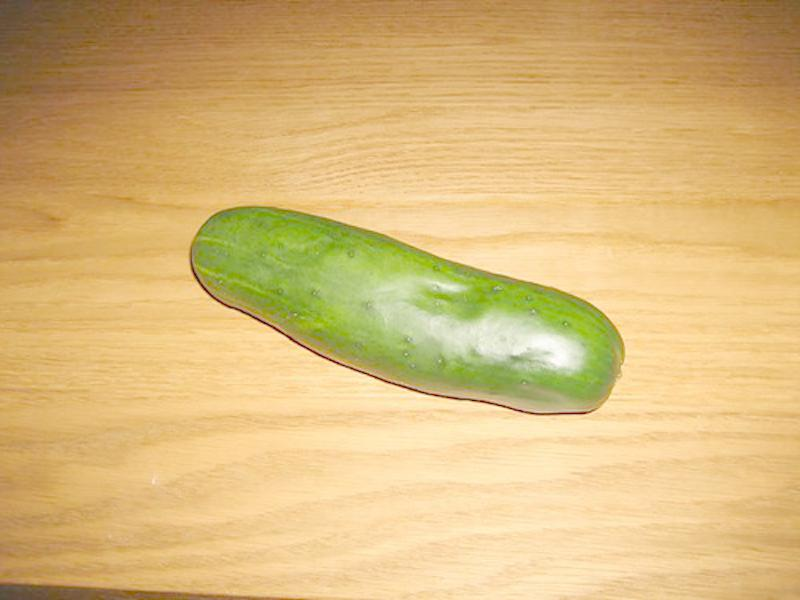Cucumber: (188, 208, 618, 414)
